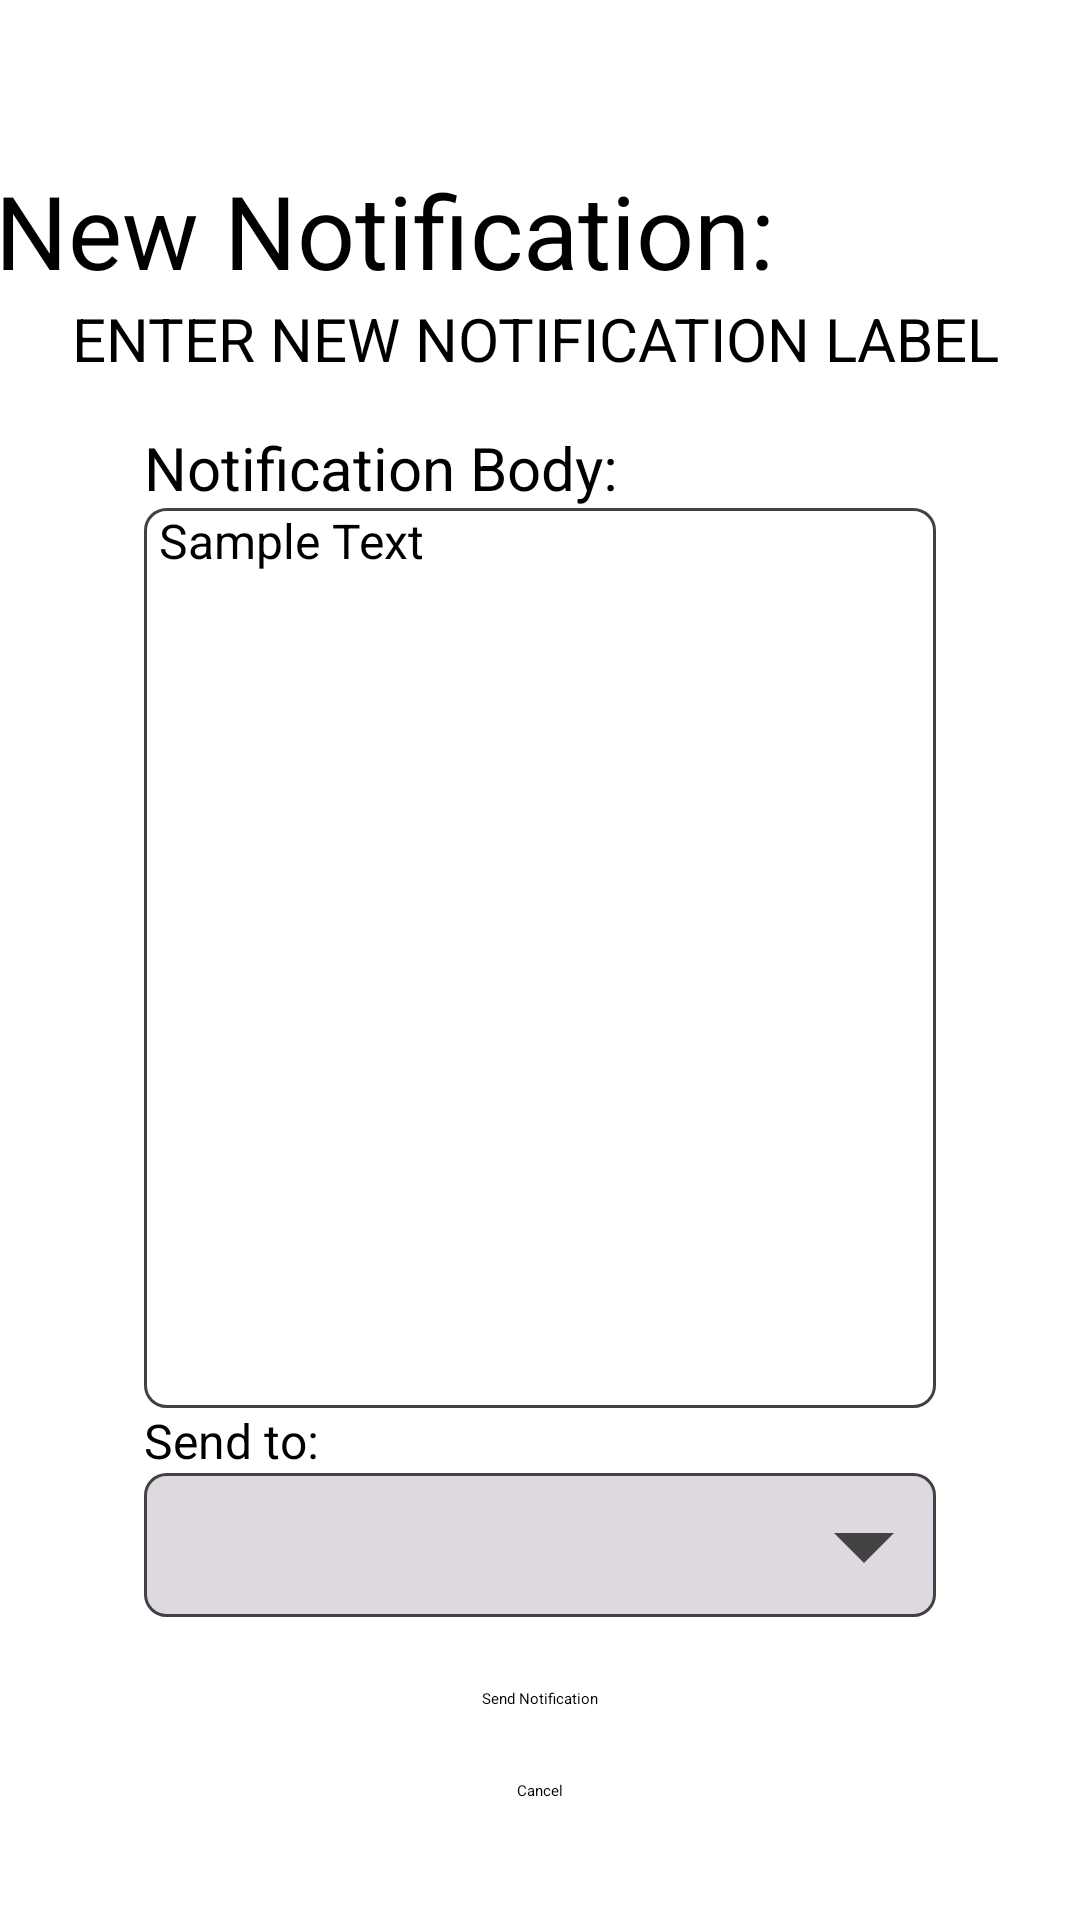

Locate icon controls on the screen. Image size 1080px×1920px, boxes as [x1, y1, x2, y2].
arrow drop down: [792, 1473, 936, 1617]
